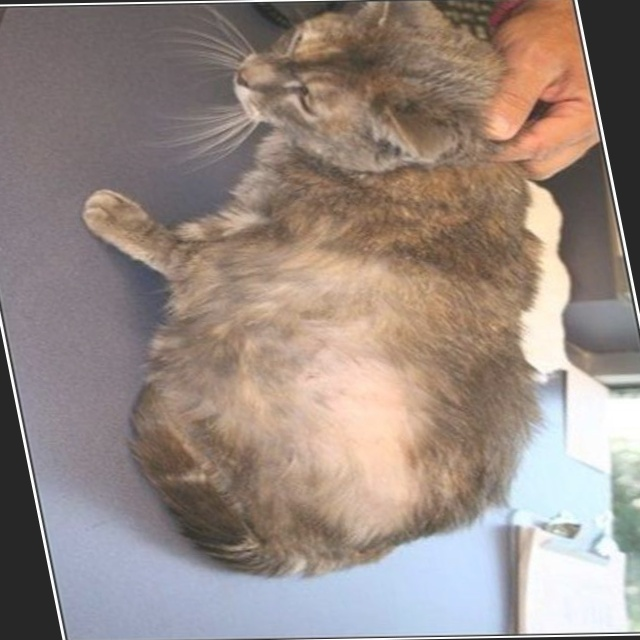hairloss: (298, 339, 441, 529)
